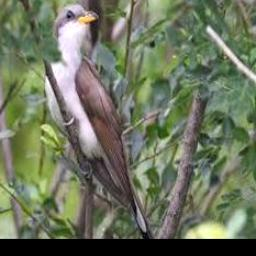Cuckoo: (46, 3, 151, 237)
